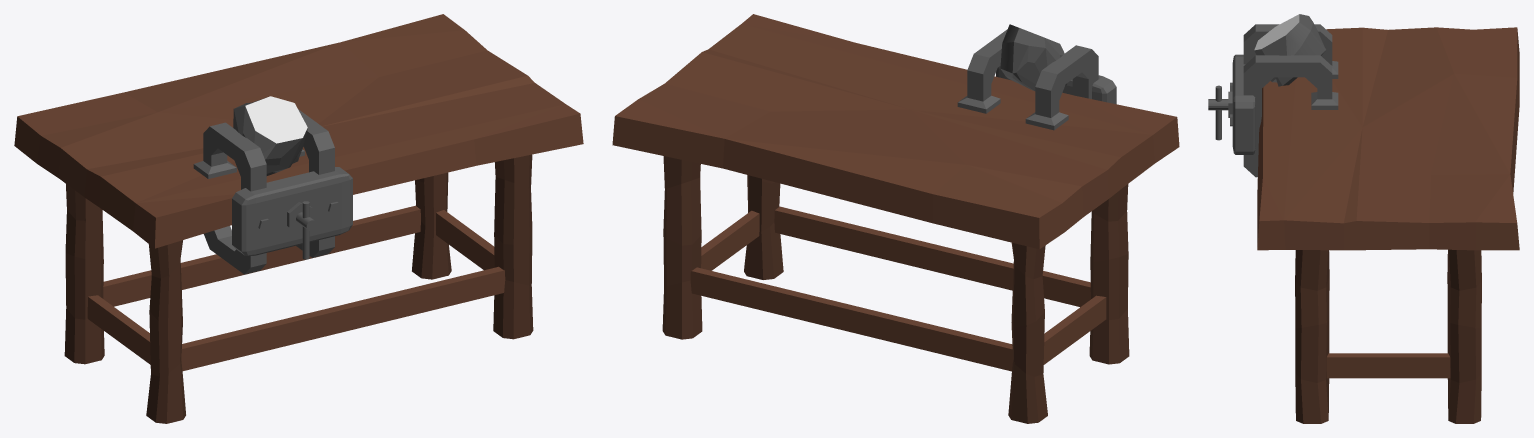
File: Workbrench.fbx
3 views of the same model, side by side, from view 1: azimuth 30°, elevation 25°; view 2: azimuth 150°, elevation 25°; view 3: azimuth 270°, elevation 25° (orthographic). The views are drawn at different scales.
Parts seen in each view (by area): view 1: Стол, Струбцина, Камень; view 2: Стол, Струбцина, Камень; view 3: Стол, Струбцина, Камень.
Boxes of the visible parts, x1,y1,x2,y2 form: Стол: (14,14,583,423); Струбцина: (193,109,352,274); Камень: (233,96,307,175); Стол: (612,14,1179,423); Струбцина: (957,29,1116,130); Камень: (1000,24,1067,90); Стол: (1257,27,1519,423); Струбцина: (1208,24,1338,177); Камень: (1254,14,1325,86).
Size of the model in its own units: 843 by 563 by 566.
